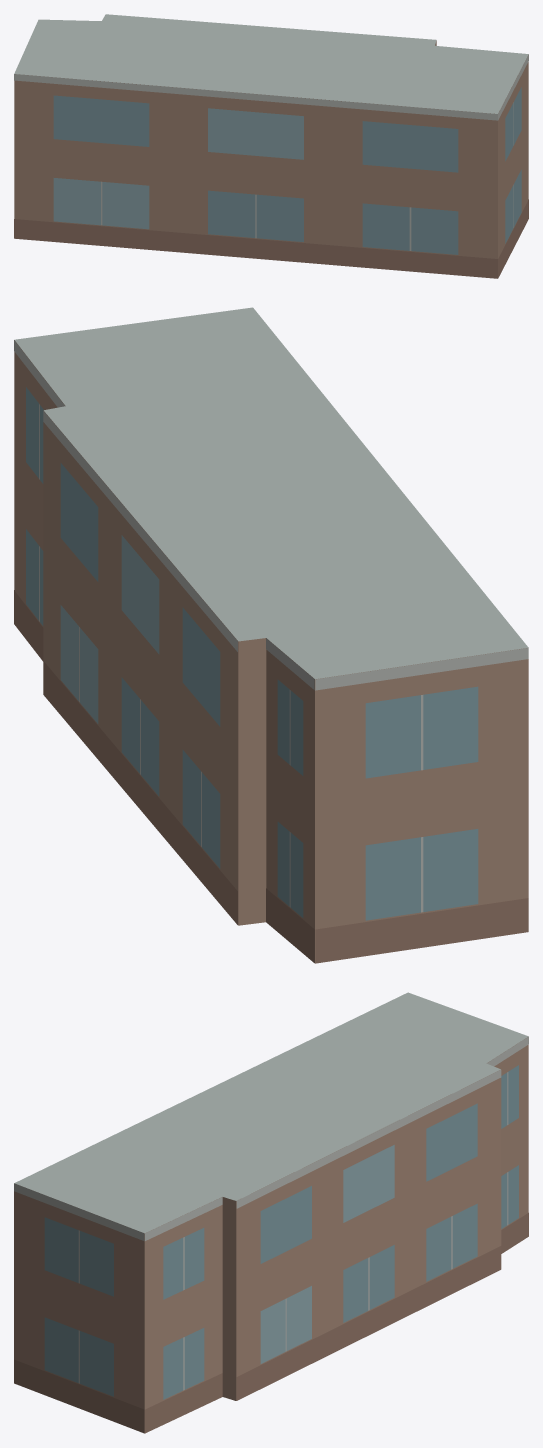
The model's file is survey-upis-32641139.glb.
3 renders of one model, top to bottom at view 1: azimuth 30°, elevation 25°; view 2: azimuth 150°, elevation 25°; view 3: azimuth 270°, elevation 25°, orthographic. The views are drawn at different scales.
Visible parts, largest first — view 1: survey-upis-32641139.tmp; view 2: survey-upis-32641139.tmp; view 3: survey-upis-32641139.tmp.
Part boxes in pixels (x1,y1,x2,y2): survey-upis-32641139.tmp: (14, 14, 528, 278); survey-upis-32641139.tmp: (14, 307, 528, 963); survey-upis-32641139.tmp: (14, 992, 528, 1433).
Bounding box in the file's own units: 15.76 × 6.1 × 14.23.
